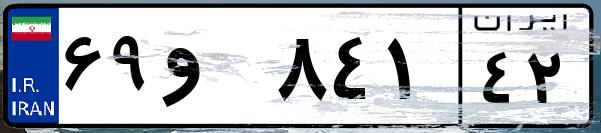1: (385, 28, 445, 110)
2: (525, 38, 570, 115)
4: (330, 28, 385, 110), (475, 38, 525, 113)
6: (57, 26, 110, 100)
8: (270, 28, 330, 110)
9: (110, 28, 158, 98)
و: (158, 20, 270, 120)
